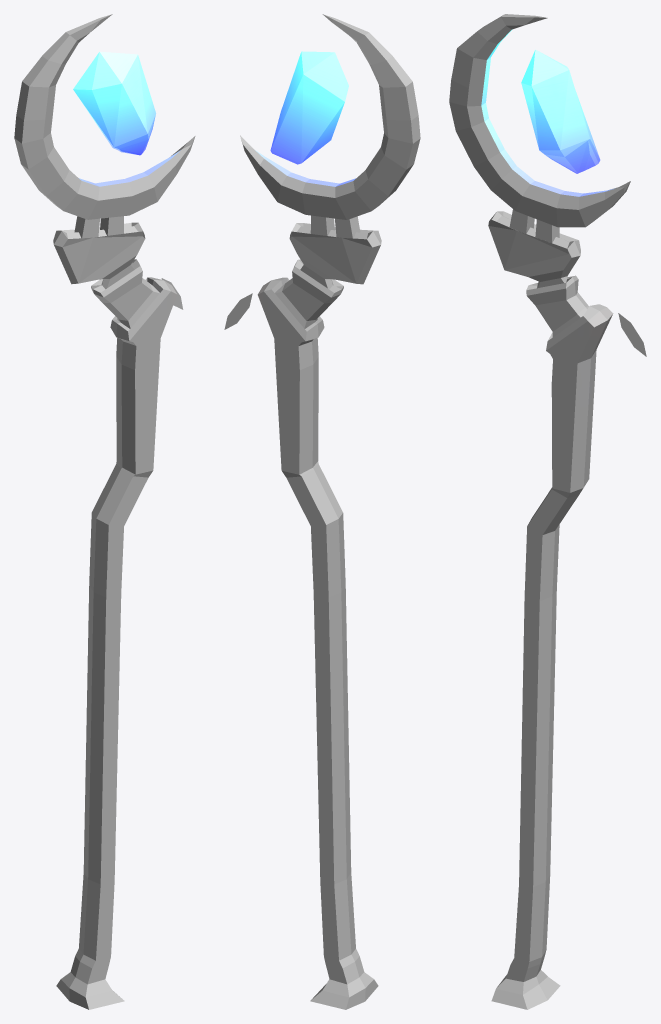
Rendered from Baculo.fbx.
3 renders of one model, left to right at view 1: azimuth 30°, elevation 25°; view 2: azimuth 150°, elevation 25°; view 3: azimuth 330°, elevation 25°, orthographic.
Visible parts, largest first — view 1: Baculo; view 2: Baculo; view 3: Baculo.
Boxes of the visible parts, x1=… form: Baculo: x1=14, y1=14, x2=195, y2=1009; Baculo: x1=224, y1=14, x2=420, y2=1009; Baculo: x1=449, y1=14, x2=646, y2=1009.
Bounding box in the file's own units: 45.94 × 240 × 14.61.
